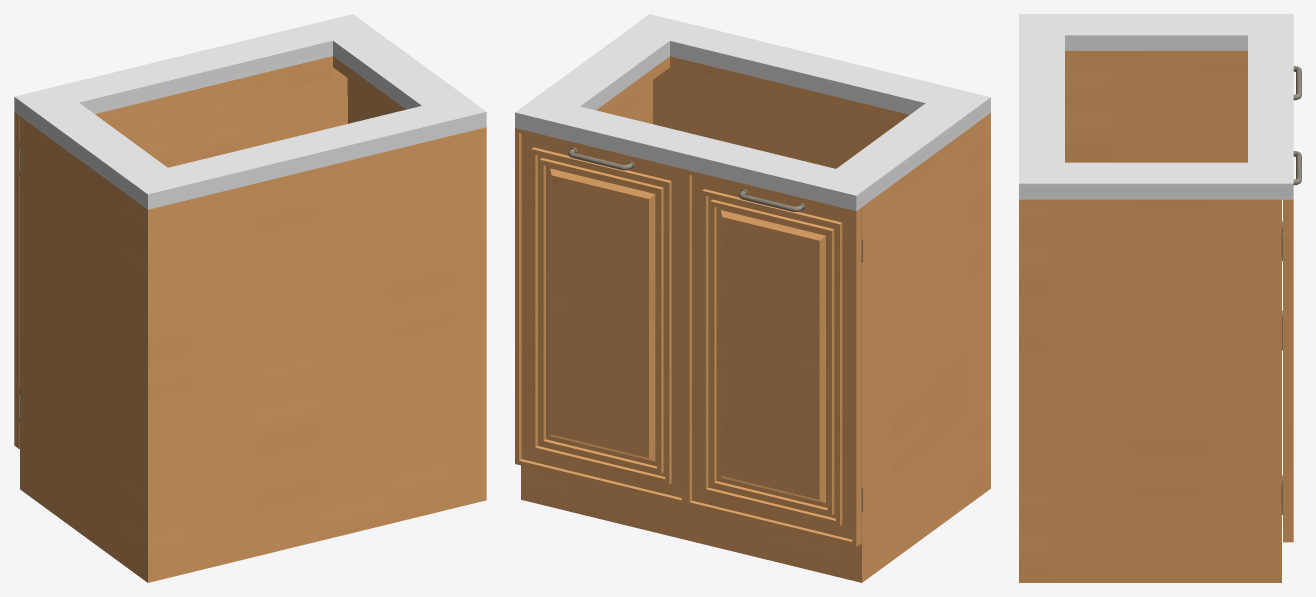
The model's file is CabinetB_Sink.glb.
The picture shows the model from 3 angles, left to right: view 1: azimuth 30°, elevation 25°; view 2: azimuth 150°, elevation 25°; view 3: azimuth 270°, elevation 25°; orthographic projection. The views are drawn at different scales.
Visible parts, largest first — view 1: CabinetB_Sink_model, CabinetB_SinkDoor02, CabinetB_SinkDoor01; view 2: CabinetB_Sink_model, CabinetB_SinkDoor01, CabinetB_SinkDoor02; view 3: CabinetB_Sink_model, CabinetB_SinkDoor02.
Part boxes in pixels (left/top/right/bottom): CabinetB_Sink_model: left=14, top=14, right=486, bottom=582; CabinetB_SinkDoor02: left=189, top=67, right=347, bottom=162; CabinetB_SinkDoor01: left=14, top=102, right=188, bottom=449; CabinetB_Sink_model: left=515, top=14, right=990, bottom=582; CabinetB_SinkDoor01: left=685, top=170, right=862, bottom=546; CabinetB_SinkDoor02: left=515, top=128, right=685, bottom=505; CabinetB_Sink_model: left=1019, top=14, right=1293, bottom=582; CabinetB_SinkDoor02: left=1281, top=151, right=1301, bottom=542.
Bounding box in the file's own units: 1.85 × 2.02 × 1.29.
1 material, 1 textured.
